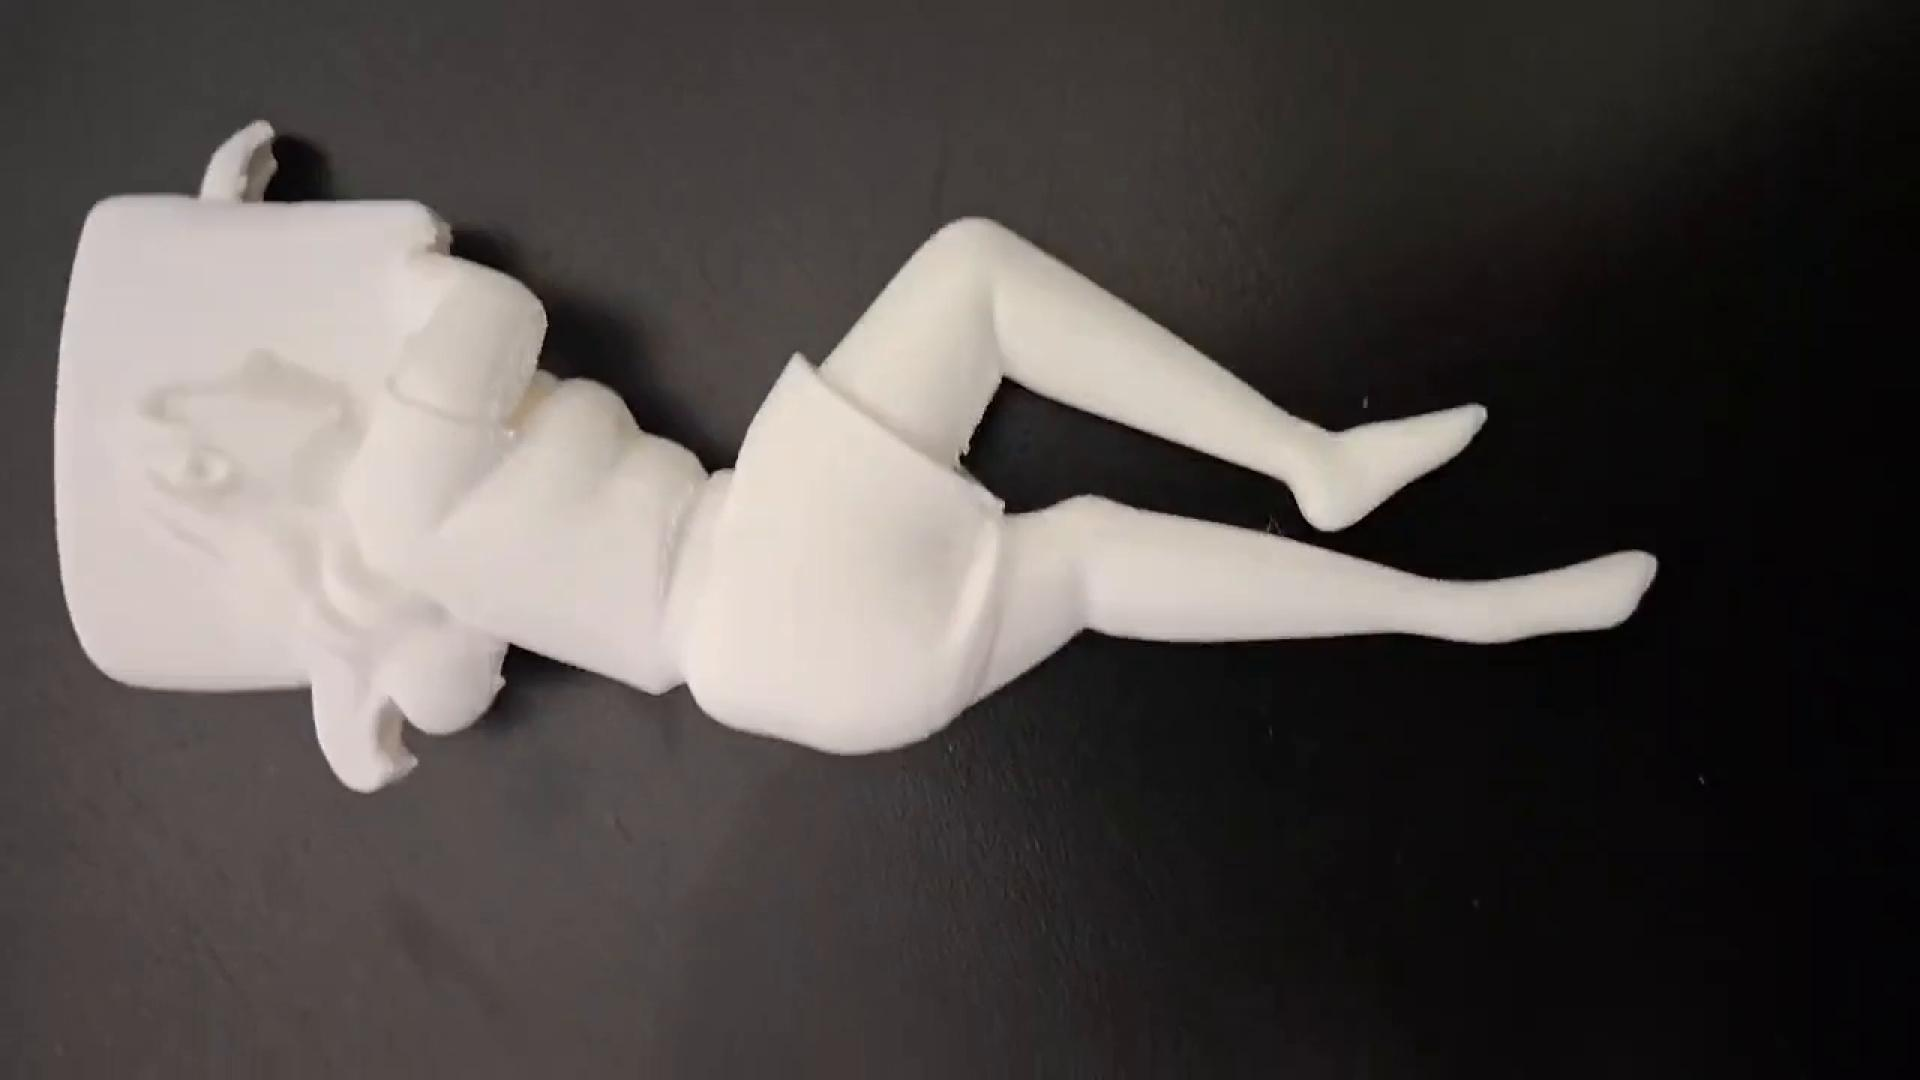Good-style: (45, 112, 1660, 794)
